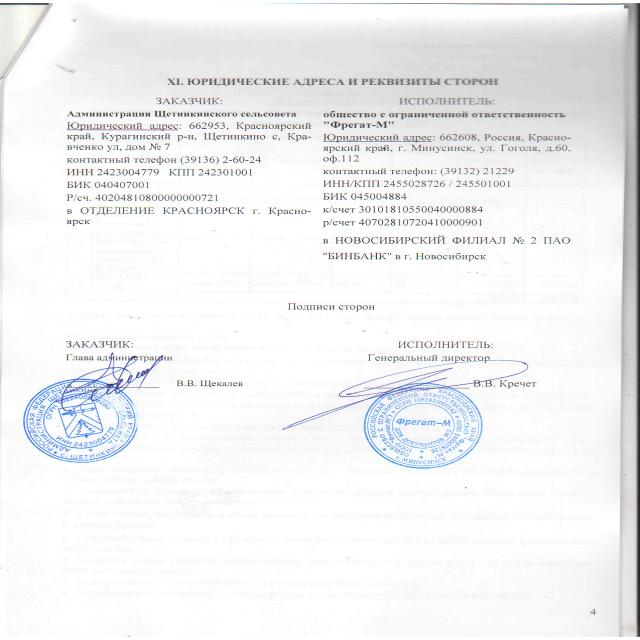stamps: (295, 326, 576, 478), (10, 342, 211, 477)
